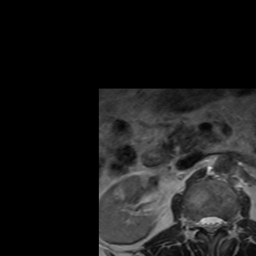CCS_normal: (206, 209, 214, 242)
LFS_stenosis: (222, 209, 230, 234)
LLS_normal: (214, 207, 222, 235)
RFS_stenosis: (191, 210, 198, 235)
RLS_normal: (198, 207, 206, 237)
